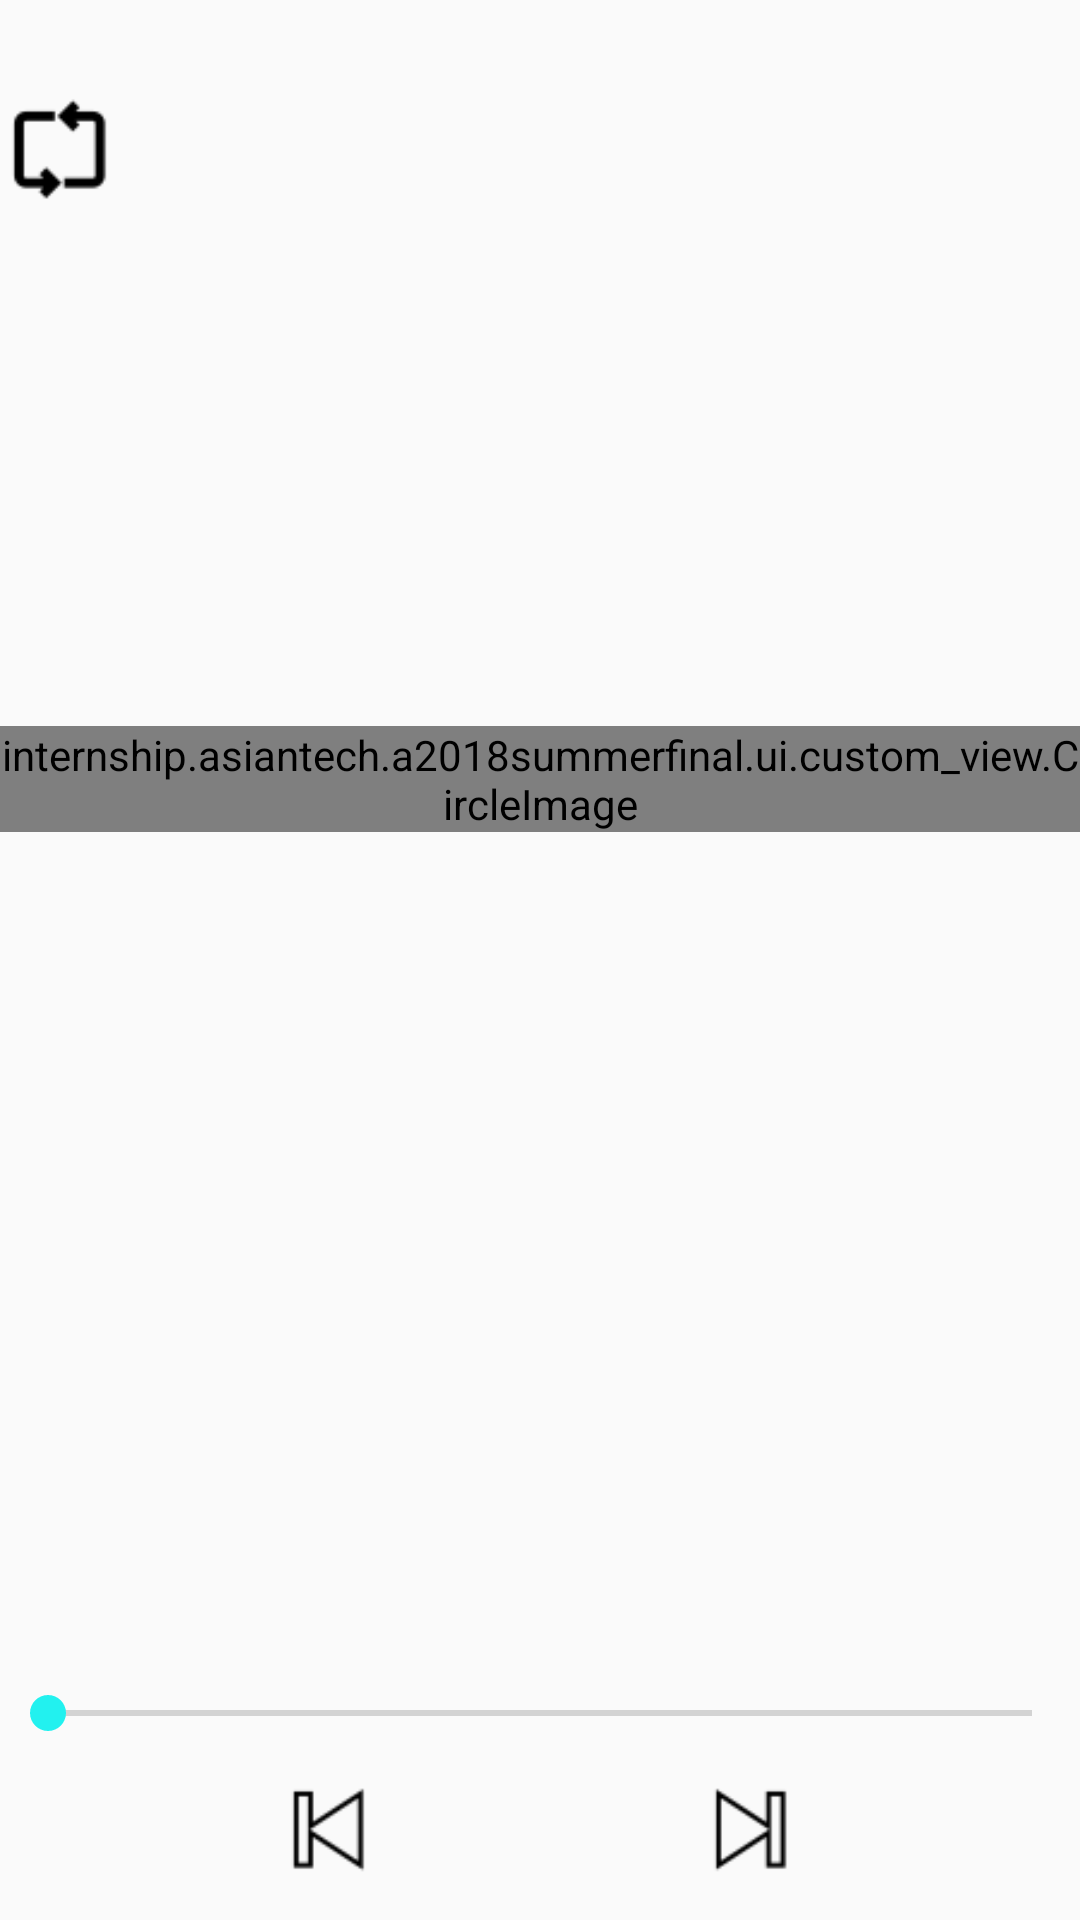

Locate icon controls on the screen. Image size 1080x1920, boxes as {"left": x1, "top": y1, "right": x2, "bottom": y2}.
next: {"left": 715, "top": 1788, "right": 787, "bottom": 1870}
previous: {"left": 293, "top": 1789, "right": 364, "bottom": 1871}
repeat: {"left": 13, "top": 100, "right": 106, "bottom": 199}
